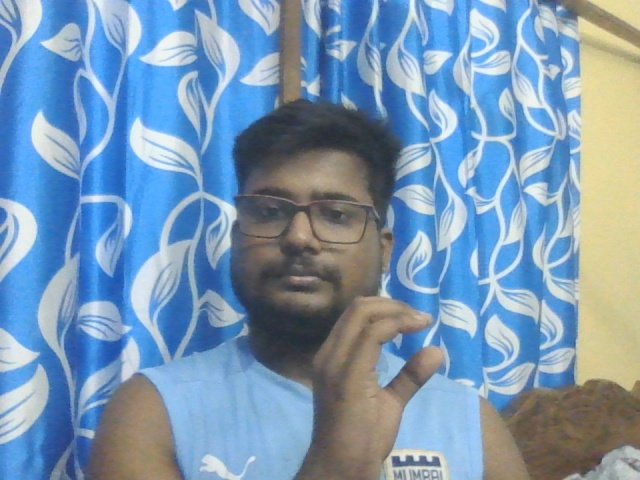C: (311, 296, 443, 460)
